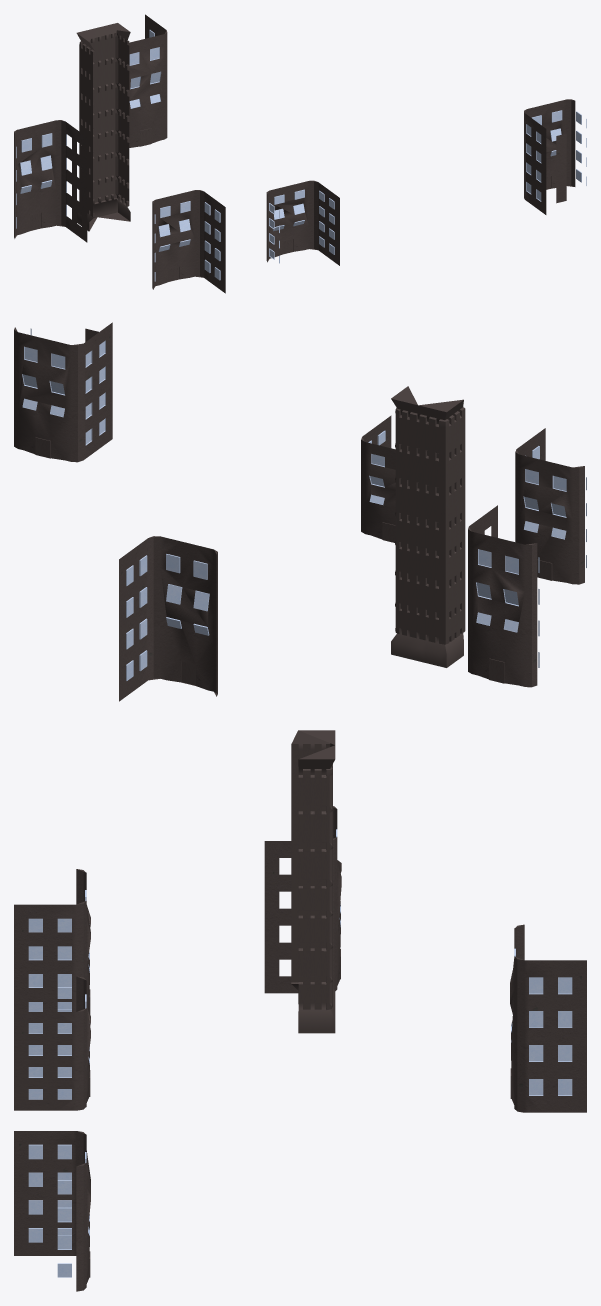
The model's file is Building3s.fbx.
The picture shows the model from 3 angles, top to bottom: view 1: azimuth 30°, elevation 25°; view 2: azimuth 150°, elevation 25°; view 3: azimuth 270°, elevation 25°; orthographic projection. The views are drawn at different scales.
Visible parts, largest first — view 1: polySurface7, pasted__pasted__pasted__pasted__pasted__pasted__pCube1; view 2: polySurface7, pasted__pasted__pasted__pasted__pasted__pasted__pCube1; view 3: polySurface7, pasted__pasted__pasted__pasted__pasted__pasted__pCube1.
Boxes of the visible parts, x1,y1,x2,y2 form: polySurface7: [14, 14, 586, 293]; pasted__pasted__pasted__pasted__pasted__pasted__pCube1: [76, 23, 130, 231]; polySurface7: [14, 322, 586, 701]; pasted__pasted__pasted__pasted__pasted__pasted__pCube1: [391, 386, 465, 667]; polySurface7: [14, 806, 586, 1291]; pasted__pasted__pasted__pasted__pasted__pasted__pCube1: [291, 730, 335, 1033].
Bounding box in the file's own units: 266 × 193 × 102.
Materials: 6 (6 with a texture image).
